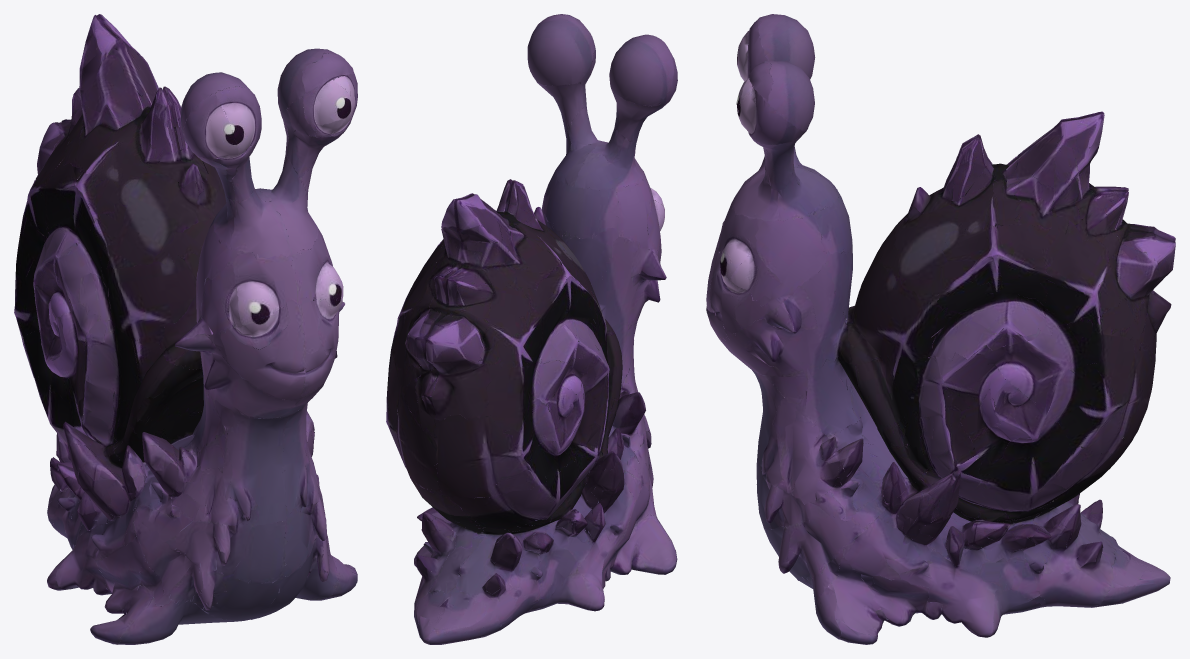
3 renders of one model, left to right at view 1: azimuth 30°, elevation 25°; view 2: azimuth 150°, elevation 25°; view 3: azimuth 270°, elevation 25°, orthographic. The views are drawn at different scales.
Parts seen in each view (by area): view 1: Mesh_0; view 2: Mesh_0; view 3: Mesh_0.
Boxes of the visible parts, bbox=[...] form: Mesh_0: bbox=[14, 14, 357, 644]; Mesh_0: bbox=[386, 14, 677, 644]; Mesh_0: bbox=[706, 14, 1175, 644].
Size of the model in its own units: 0.8936 by 1.9 by 1.47.
Materials: 1 (1 with a texture image).
